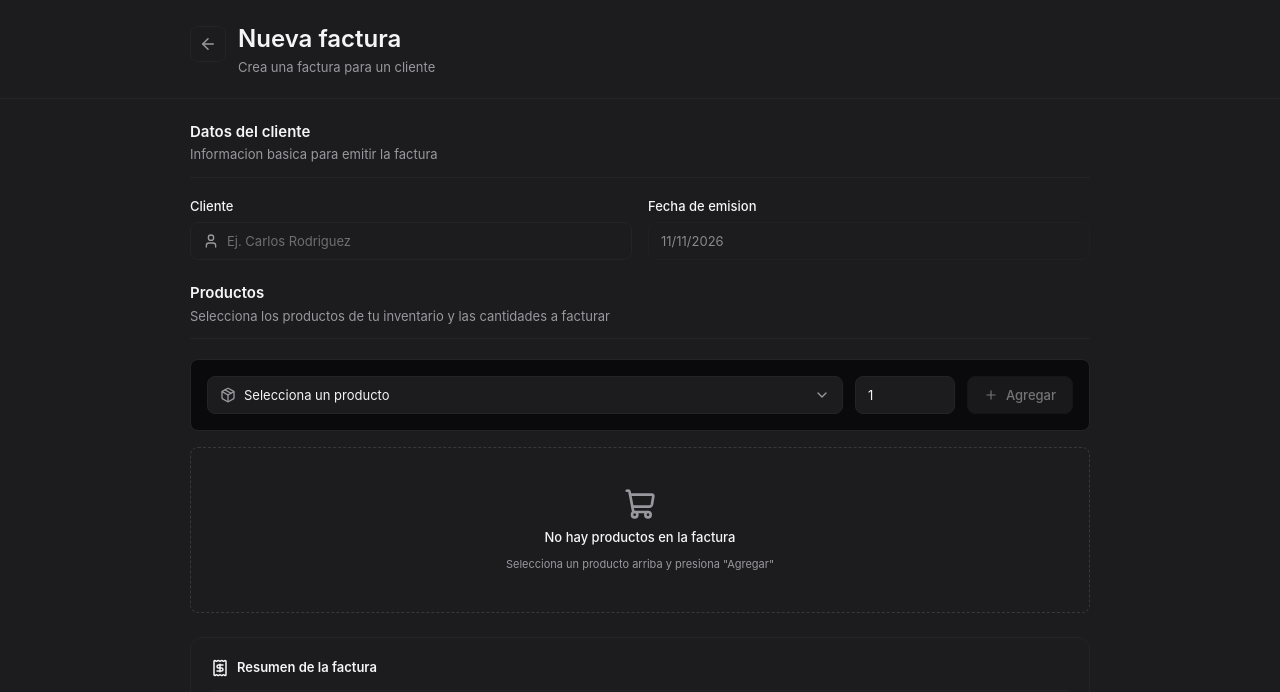
Test: BillingNew › removes a product from the list
Select "Gorra bordada - Bs.S 15,00" in the dropdown at point(537, 395), box [244, 377, 830, 413]
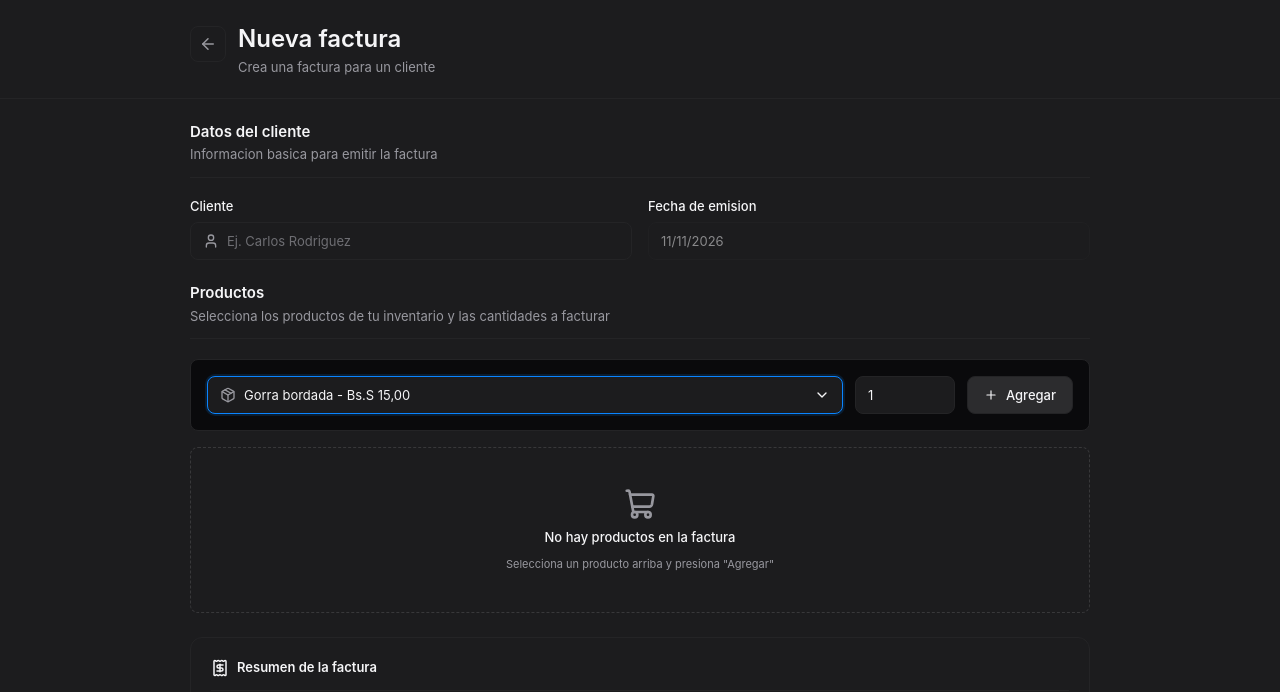
Click the button "Agregar" at point(1020, 395), box [967, 376, 1073, 414]
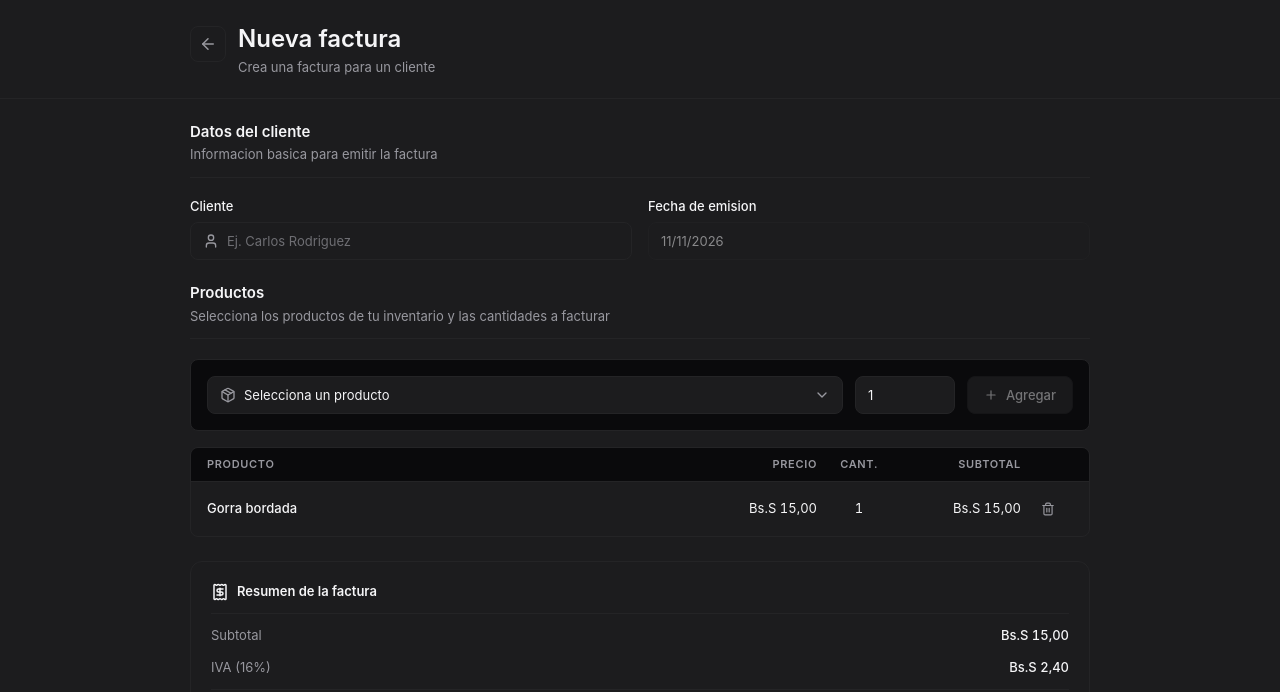
Check: the text "Gorra bordada" is shown, box [207, 500, 297, 516]
Click the button named "Quitar Gorra bordada" at point(1048, 509), box [1033, 494, 1063, 524]
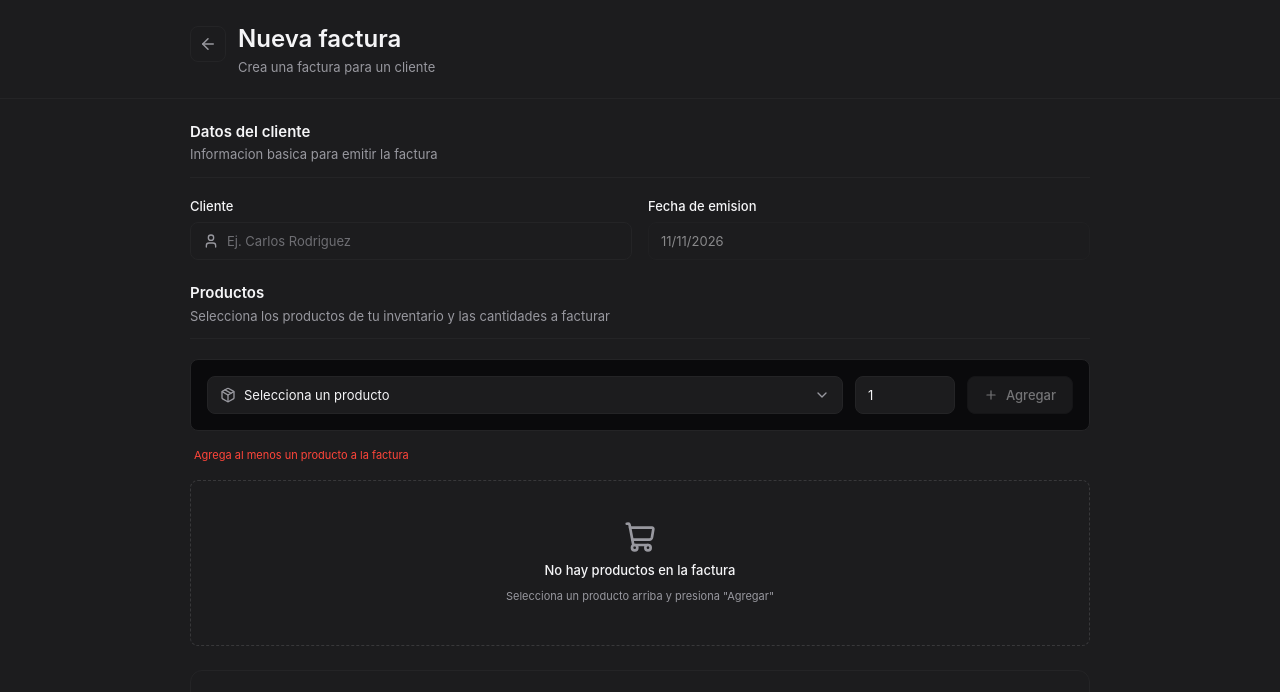
Check: the text "Gorra bordada" is gone
Check: the text "No hay productos en la factura" is shown, box [544, 561, 736, 580]
